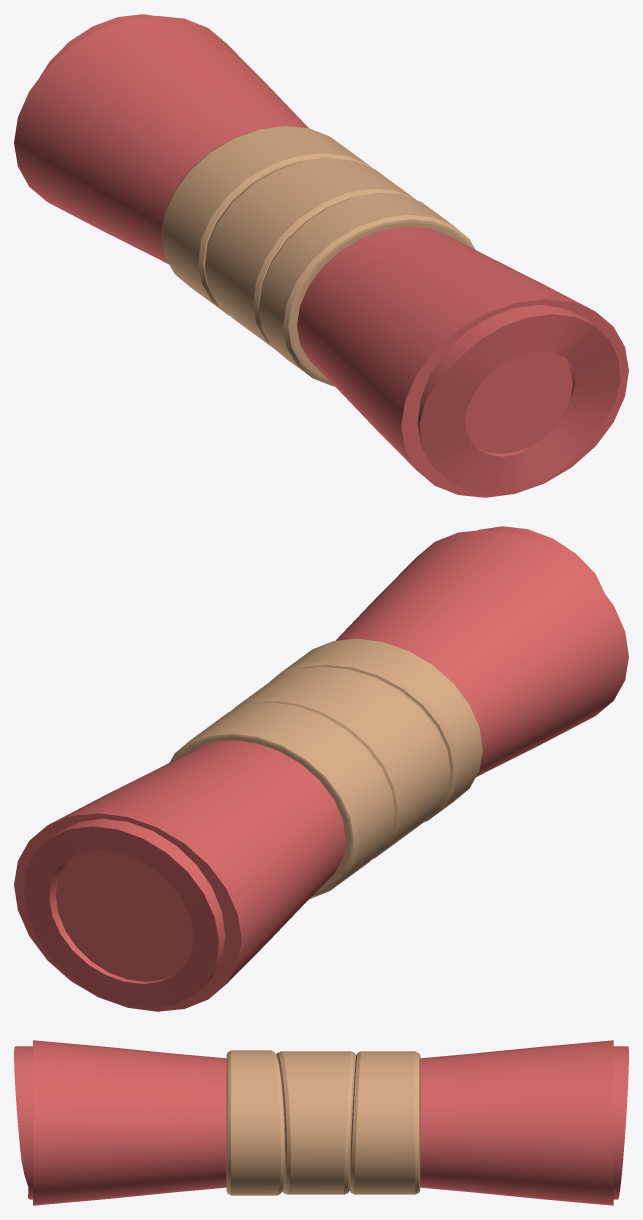
Rendered from Mod_SleepingBagClosed.fbx.
3 views of the same model, one above another, from view 1: azimuth 30°, elevation 25°; view 2: azimuth 150°, elevation 25°; view 3: azimuth 270°, elevation 25° (orthographic). The views are drawn at different scales.
Visible parts, largest first — view 1: SleepingBagClosed; view 2: SleepingBagClosed; view 3: SleepingBagClosed.
Boxes of the visible parts, left/top/right/bottom form: SleepingBagClosed: left=14, top=14, right=628, bottom=497; SleepingBagClosed: left=14, top=526, right=628, bottom=1011; SleepingBagClosed: left=14, top=1040, right=628, bottom=1205.
Bounding box in the file's own units: 60.06 × 48.05 × 187.
